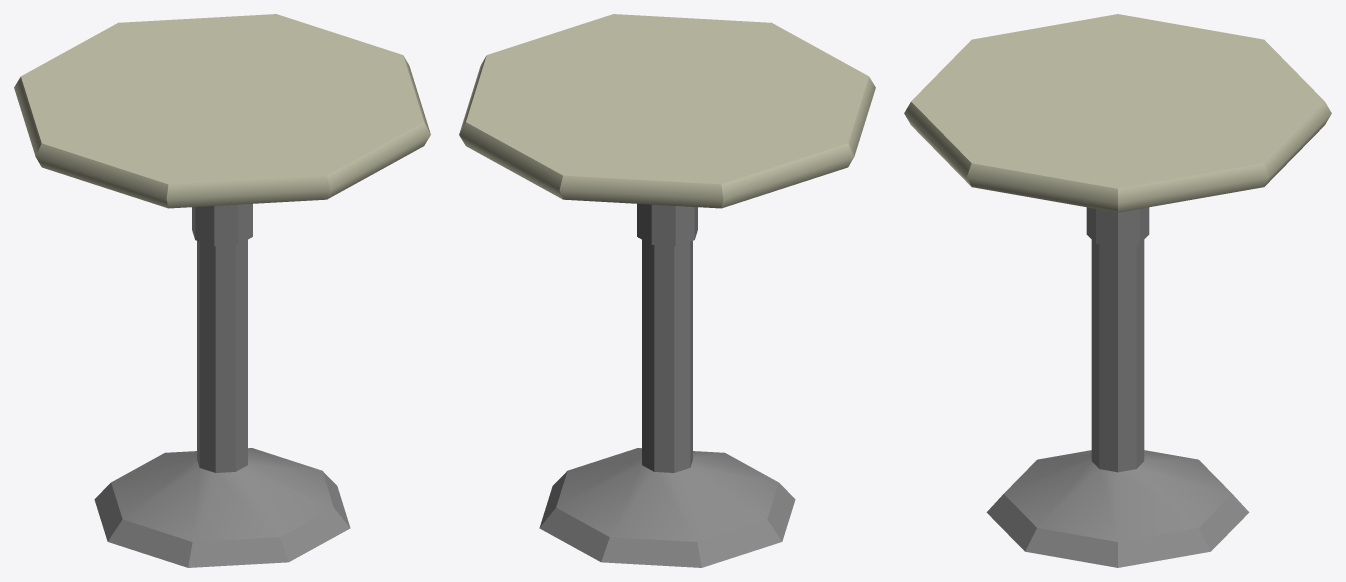
Rendered from HighTopTable.fbx.
3 renders of one model, left to right at view 1: azimuth 30°, elevation 25°; view 2: azimuth 150°, elevation 25°; view 3: azimuth 270°, elevation 25°, orthographic.
Parts seen in each view (by area): view 1: HighTopTable; view 2: HighTopTable; view 3: HighTopTable.
Boxes of the visible parts, x1,y1,x2,y2 form: HighTopTable: (14,14,430,567); HighTopTable: (459,14,875,567); HighTopTable: (904,14,1331,567).
Size of the model in its own units: 111 by 118 by 111.
